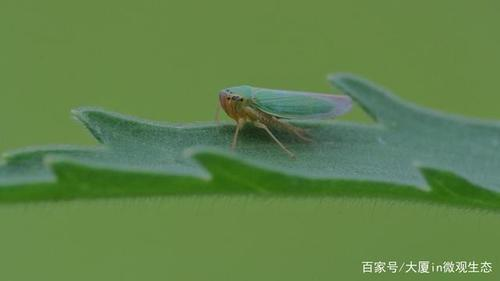Cicadellidae: (218, 84, 353, 158)
